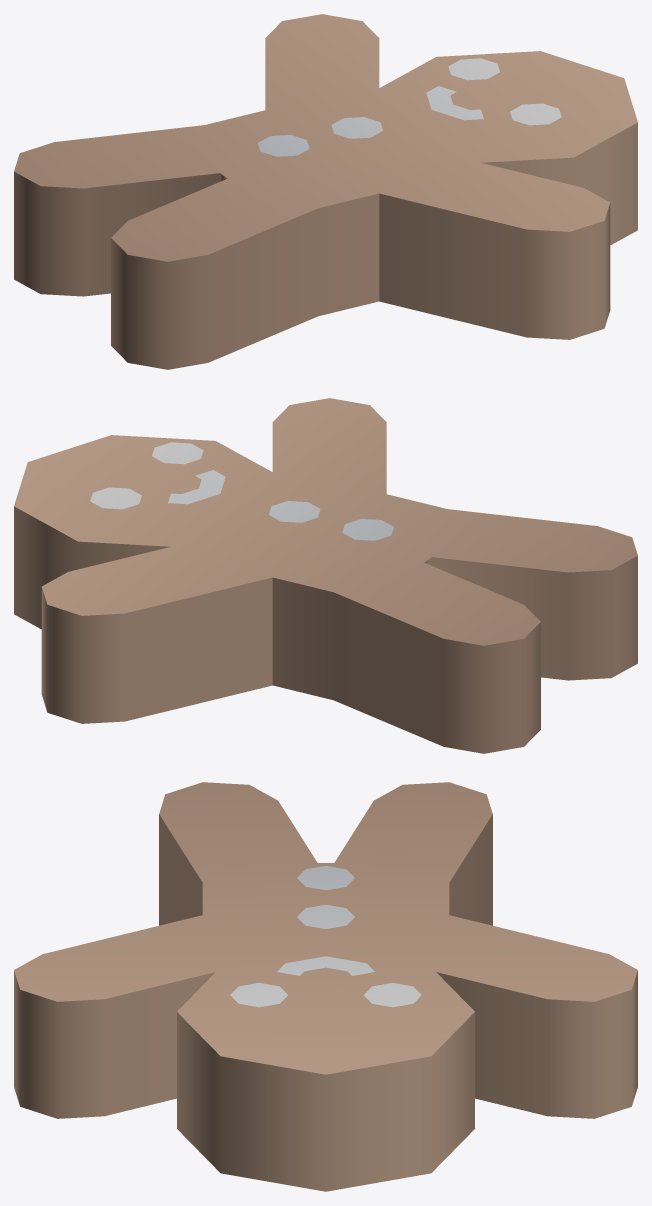
File: gingerbread-man.glb
3 renders of one model, top to bottom at view 1: azimuth 30°, elevation 25°; view 2: azimuth 150°, elevation 25°; view 3: azimuth 270°, elevation 25°, orthographic. The views are drawn at different scales.
Visible parts, largest first — view 1: gingerbread-man; view 2: gingerbread-man; view 3: gingerbread-man.
Boxes of the visible parts, x1,y1,x2,y2 form: gingerbread-man: (14, 14, 637, 369); gingerbread-man: (14, 398, 637, 753); gingerbread-man: (14, 782, 637, 1191).
Bounding box in the file's own units: 0.2146 × 0.0457 × 0.1934.
